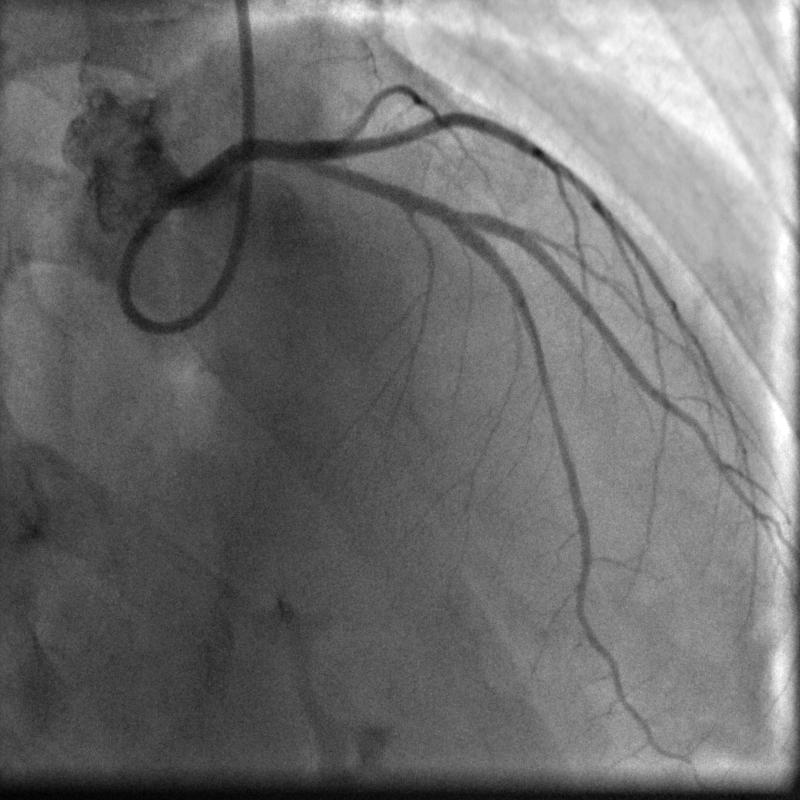Stenosis: (438, 196, 460, 237)
